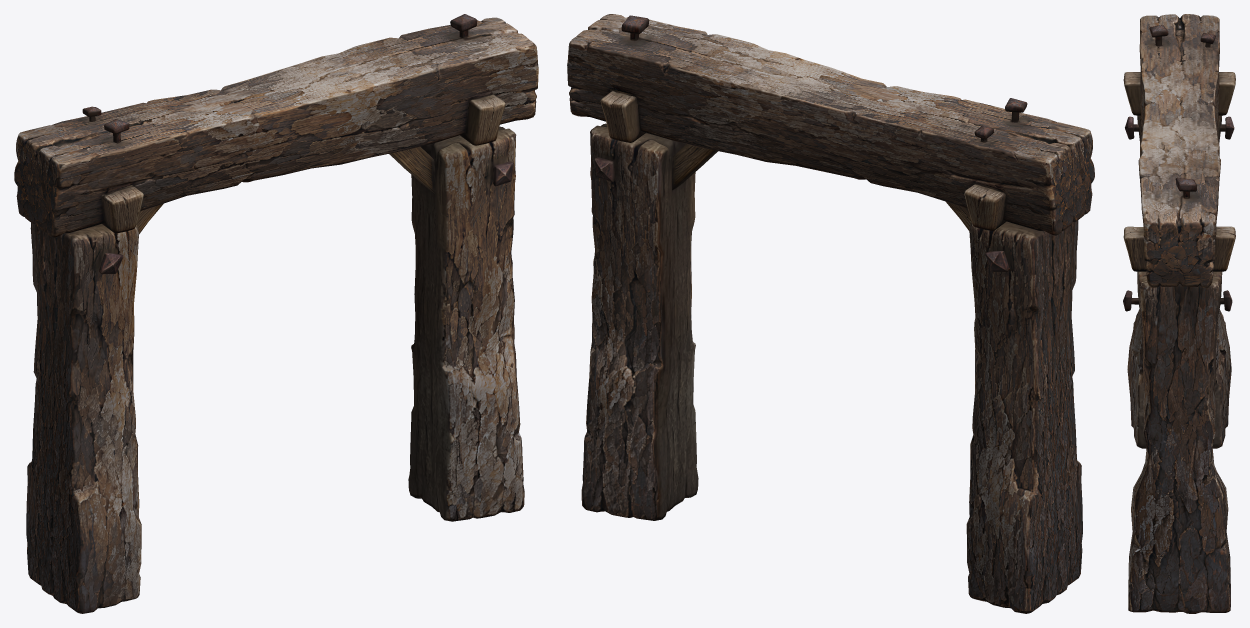
The model's file is dungeon_mine_timber.glb.
3 views of the same model, side by side, from view 1: azimuth 30°, elevation 25°; view 2: azimuth 150°, elevation 25°; view 3: azimuth 270°, elevation 25° (orthographic). The views are drawn at different scales.
Parts seen in each view (by area): view 1: a6f96df1_f519_42e2_83a5_b6989c7443ce; view 2: a6f96df1_f519_42e2_83a5_b6989c7443ce; view 3: a6f96df1_f519_42e2_83a5_b6989c7443ce.
Part boxes in pixels (x1,y1,x2,y2): a6f96df1_f519_42e2_83a5_b6989c7443ce: (14,14,538,613); a6f96df1_f519_42e2_83a5_b6989c7443ce: (567,14,1094,613); a6f96df1_f519_42e2_83a5_b6989c7443ce: (1123,14,1235,613).
Bounding box in the file's own units: 0.9995 × 0.937 × 0.2261.
Materials: 1 (1 with a texture image).
